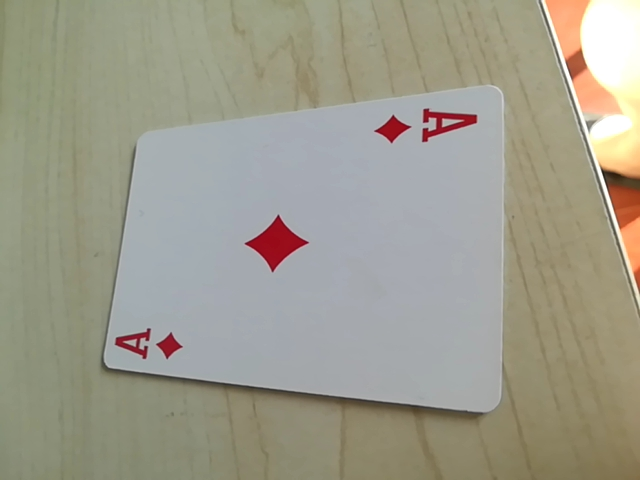fk a: (377, 101, 480, 151), (109, 316, 187, 370)
